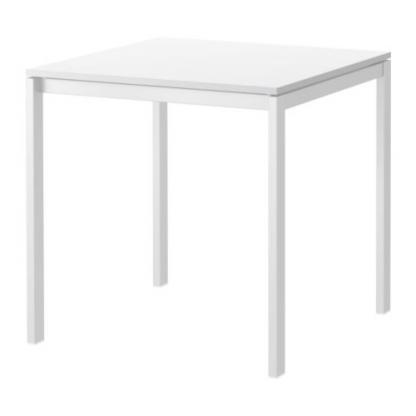Table: (20, 31, 397, 382)
